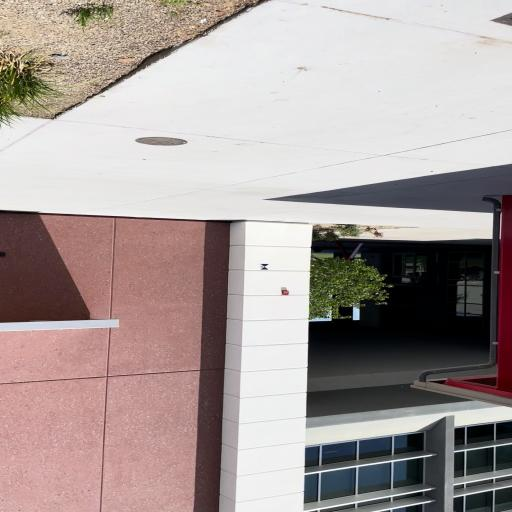target6: (259, 264, 268, 270)
